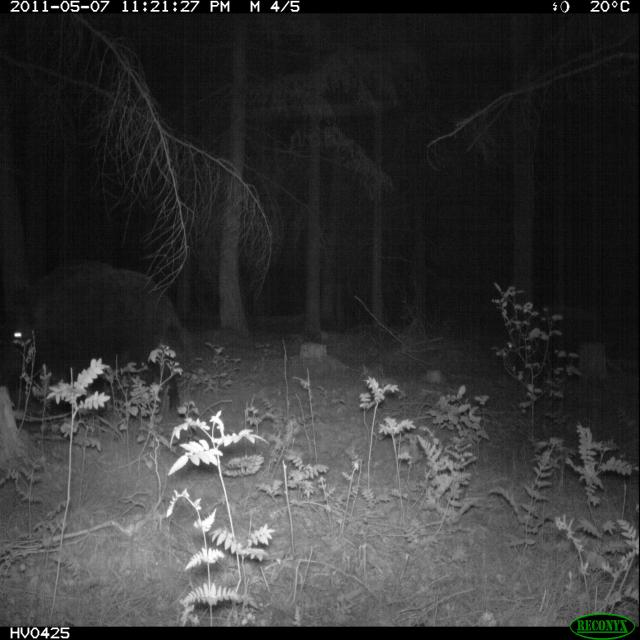boar: (0, 188, 212, 436)
